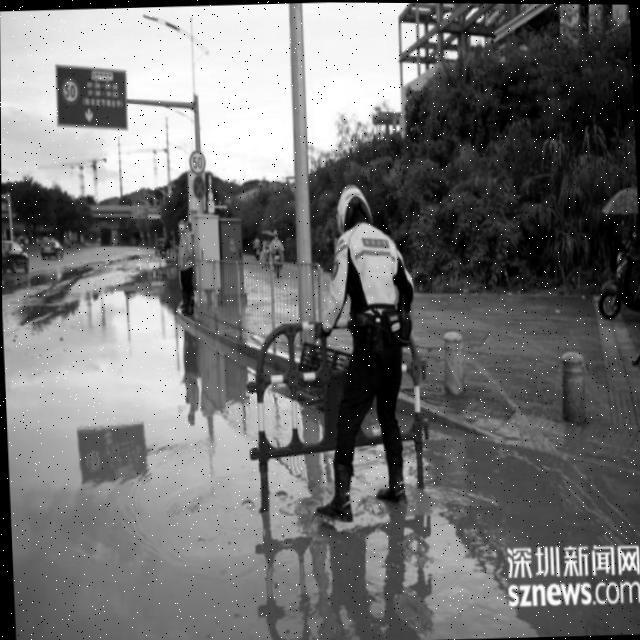civilian: (171, 214, 204, 320)
rescuer: (298, 174, 442, 545)
